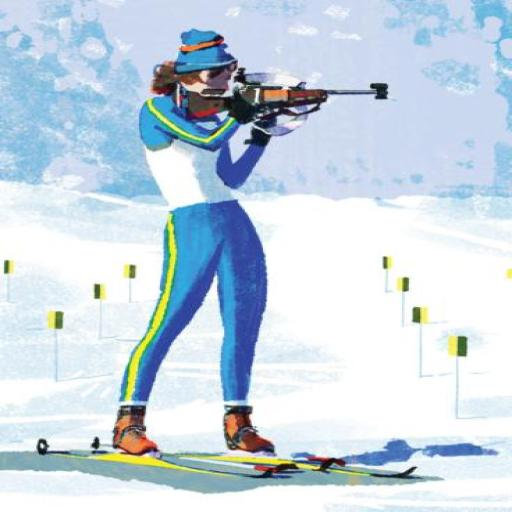shooting: (107, 26, 328, 460)
